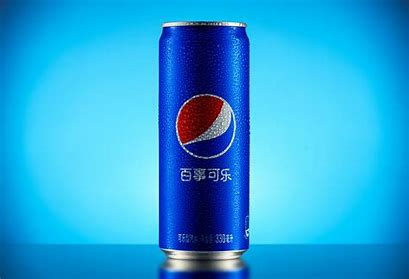Pepsi: (157, 21, 252, 270)
